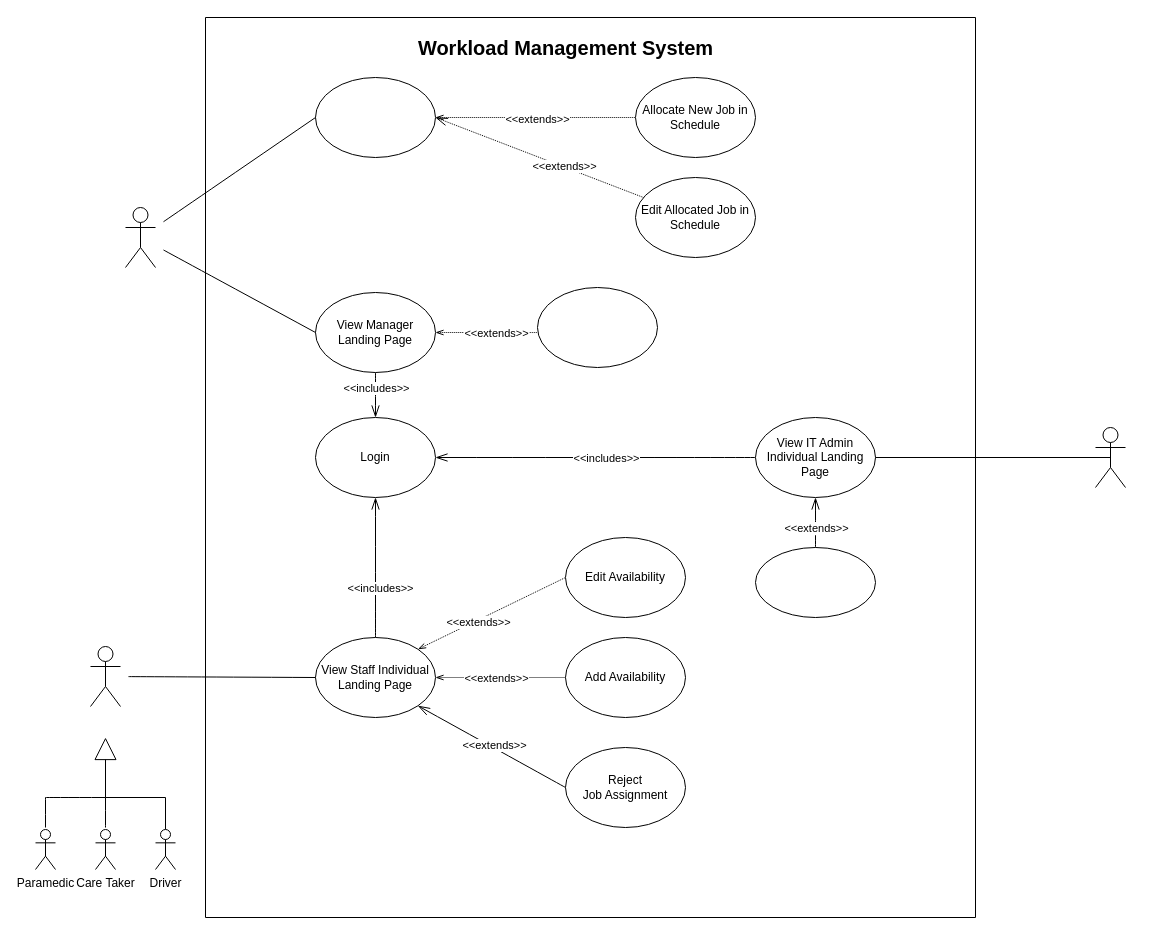
The diagram is 1151 pixels wide and 935 high, and some of its shapes have lost their labels. The centre of each missing label's shape, as x and y in pixels:
Approve/Disapprove Rejected Job Assignments: pixel 597 327
Create New Account: pixel 815 582
IT Admin: pixel 1110 457
Manager: pixel 140 237
Staff: pixel 105 676
View Job Allocation Page: pixel 375 117
